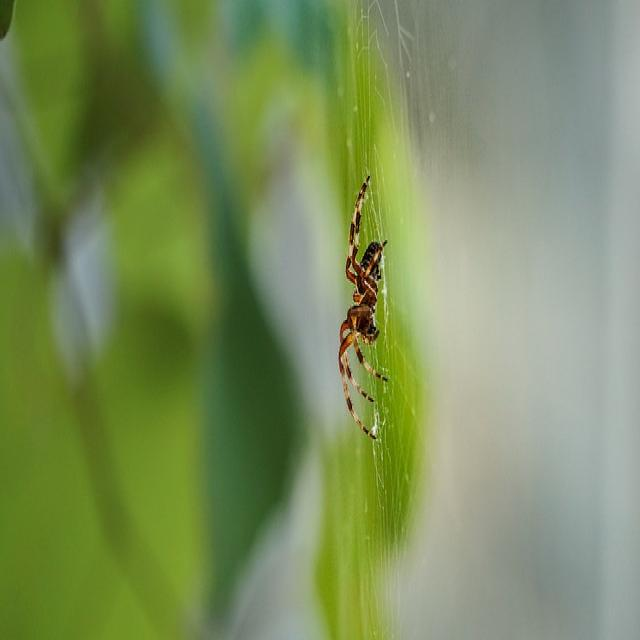spyder: (339, 176, 388, 439)
